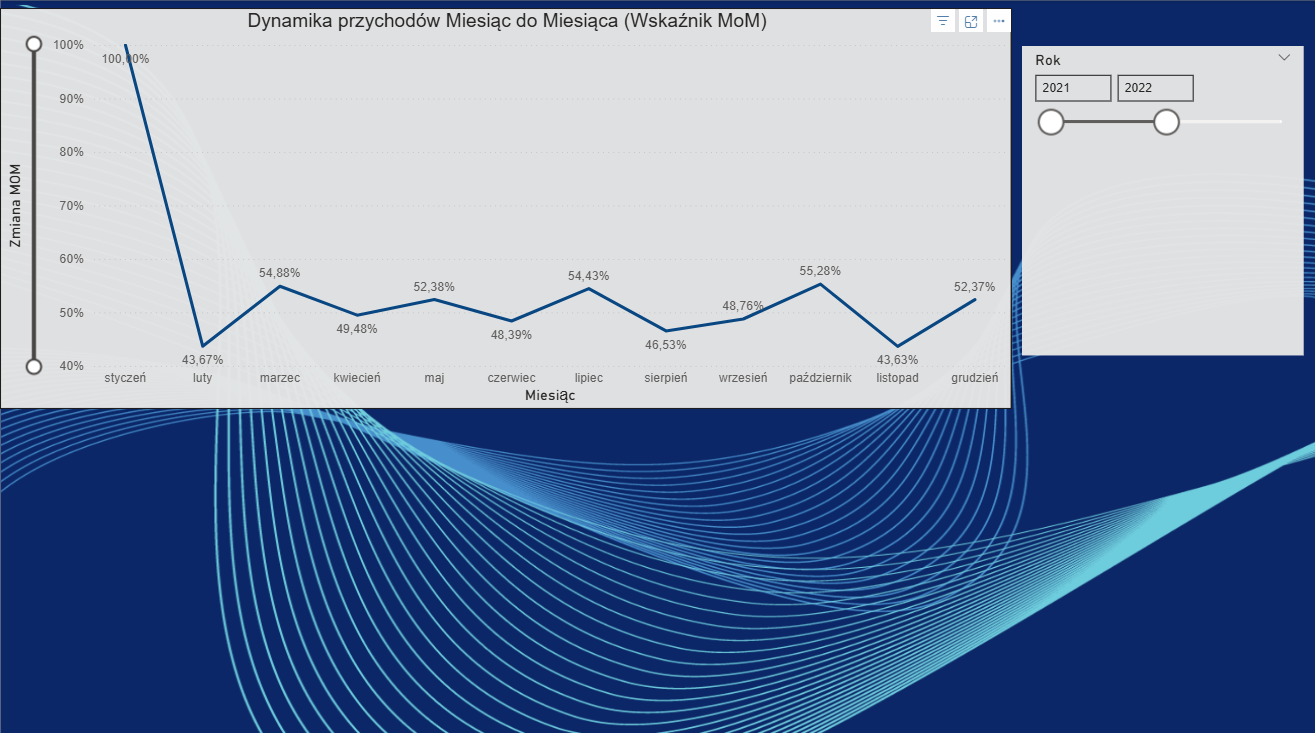

Layout of this report page (visuals, bound fields, positions):
{"tool":"powerbi","page":{"name":"O ile wzrosła sprzedaż względem poprzedniego miesiąca?","canvas":[1280,720],"ordinal":2},"visuals":[{"type":"lineChart","title":"Dynamika przychodów Miesiąc do Miesiąca (Wskaźnik MoM)","fields":{"Category":["customer_shopping_data.invoice_date.Odmiana.Hierarchia dat.Miesiąc"],"Y":["customer_shopping_data.Zmiana MOM"]},"box":[0,7.8,984.3,390],"z":0},{"type":"slicer","fields":{"Values":["customer_shopping_data.invoice_date.Odmiana.Hierarchia dat.Rok"]},"box":[994,44.7,274.3,300.5],"z":1000}]}

Visuals, with their boxes in screenshot pixels (x1, y1, x2, y2), scaled from the page's 1280x720 canvas onto the 1315x733 screenshot:
"Dynamika przychodów Miesiąc do Miesiąca (Wskaźnik MoM)" lineChart: <region>0, 8, 1011, 405</region>
slicer - customer_shopping_data.invoice_date.Odmiana.Hierarchia dat.Rok: <region>1021, 46, 1303, 351</region>
